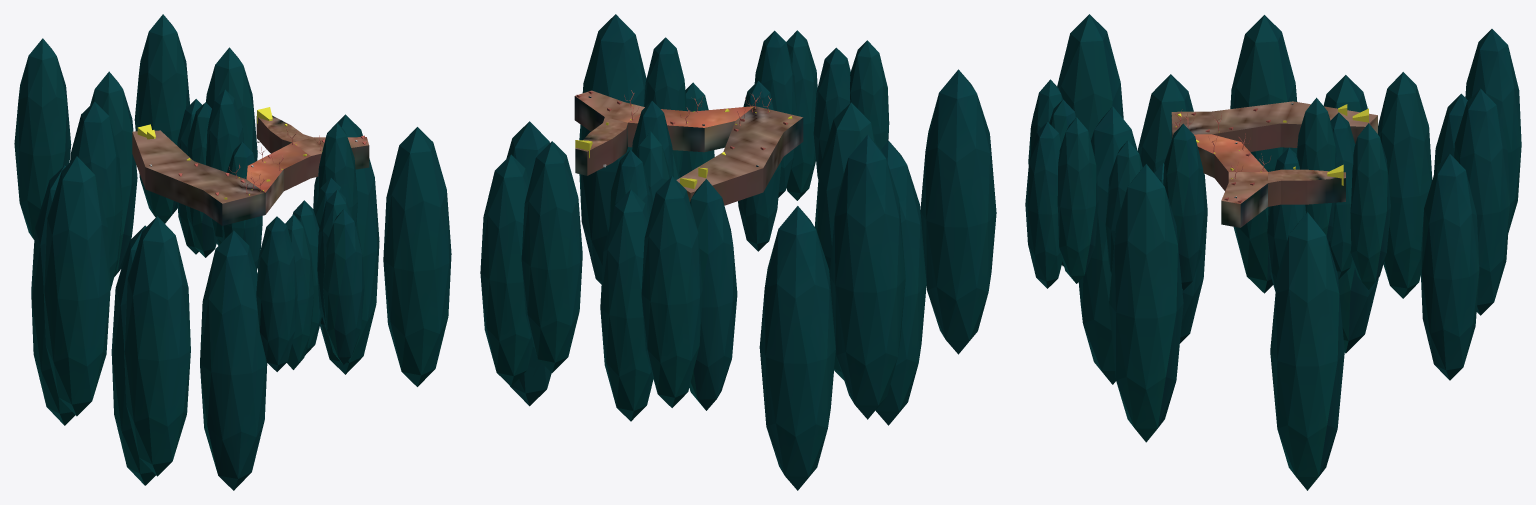
The model's file is demo-cliffs.gltf.
3 renders of one model, left to right at view 1: azimuth 30°, elevation 25°; view 2: azimuth 150°, elevation 25°; view 3: azimuth 270°, elevation 25°, orthographic. The views are drawn at different scales.
Visible parts, largest first — view 1: Icosphere, Icosphere.010, Icosphere.012, Icosphere.006, Cube, Icosphere.039, Icosphere.037, Icosphere.016, Icosphere.007, Icosphere.036, Icosphere.001, Icosphere.040 (+12 smaller); view 2: Icosphere.011, Icosphere.012, Icosphere.010, Cube, Icosphere.039, Icosphere.037, Icosphere.040, Icosphere.038, Icosphere.036, Icosphere, Icosphere.013, Icosphere.006 (+11 smaller); view 3: Icosphere, Icosphere.001, Cube, Icosphere.038, Icosphere.036, Icosphere.037, Icosphere.010, Icosphere.006, Icosphere.008, Icosphere.003, Icosphere.012, Icosphere.007 (+11 smaller).
Boxes of the visible parts, bbox=[...] form: Icosphere: bbox=[383, 127, 451, 386]; Icosphere.010: bbox=[43, 156, 110, 416]; Icosphere.012: bbox=[124, 216, 190, 476]; Icosphere.006: bbox=[200, 230, 267, 490]; Cube: bbox=[132, 115, 369, 225]; Icosphere.039: bbox=[14, 38, 71, 239]; Icosphere.037: bbox=[134, 14, 189, 223]; Icosphere.016: bbox=[256, 216, 297, 371]; Icosphere.007: bbox=[323, 209, 364, 364]; Icosphere.036: bbox=[70, 101, 122, 290]; Icosphere.001: bbox=[313, 114, 379, 374]; Icosphere.040: bbox=[90, 71, 137, 276]; Icosphere.011: bbox=[759, 206, 835, 490]; Icosphere.012: bbox=[920, 69, 996, 354]; Icosphere.010: bbox=[829, 134, 905, 419]; Cube: bbox=[574, 90, 803, 205]; Icosphere.039: bbox=[641, 176, 702, 407]; Icosphere.037: bbox=[521, 141, 582, 372]; Icosphere.040: bbox=[600, 189, 653, 421]; Icosphere.038: bbox=[480, 154, 533, 386]; Icosphere.036: bbox=[689, 179, 737, 410]; Icosphere: bbox=[579, 14, 646, 284]; Icosphere.013: bbox=[875, 140, 926, 425]; Icosphere.006: bbox=[814, 102, 876, 379]; Icosphere: bbox=[1109, 164, 1183, 442]; Icosphere.001: bbox=[1270, 212, 1344, 490]; Cube: bbox=[1171, 101, 1377, 227]; Icosphere.038: bbox=[1420, 154, 1479, 380]; Icosphere.036: bbox=[1378, 72, 1432, 298]; Icosphere.037: bbox=[1454, 88, 1509, 315]; Icosphere.010: bbox=[1230, 15, 1297, 293]; Icosphere.006: bbox=[1078, 106, 1137, 384]; Icosphere.008: bbox=[1057, 117, 1098, 283]; Icosphere.003: bbox=[1350, 123, 1390, 289]; Icosphere.012: bbox=[1057, 14, 1123, 140]; Icosphere.007: bbox=[1025, 122, 1062, 288].
Bounding box in the file's own units: 328 × 294 × 378.
5 materials, 1 textured.
